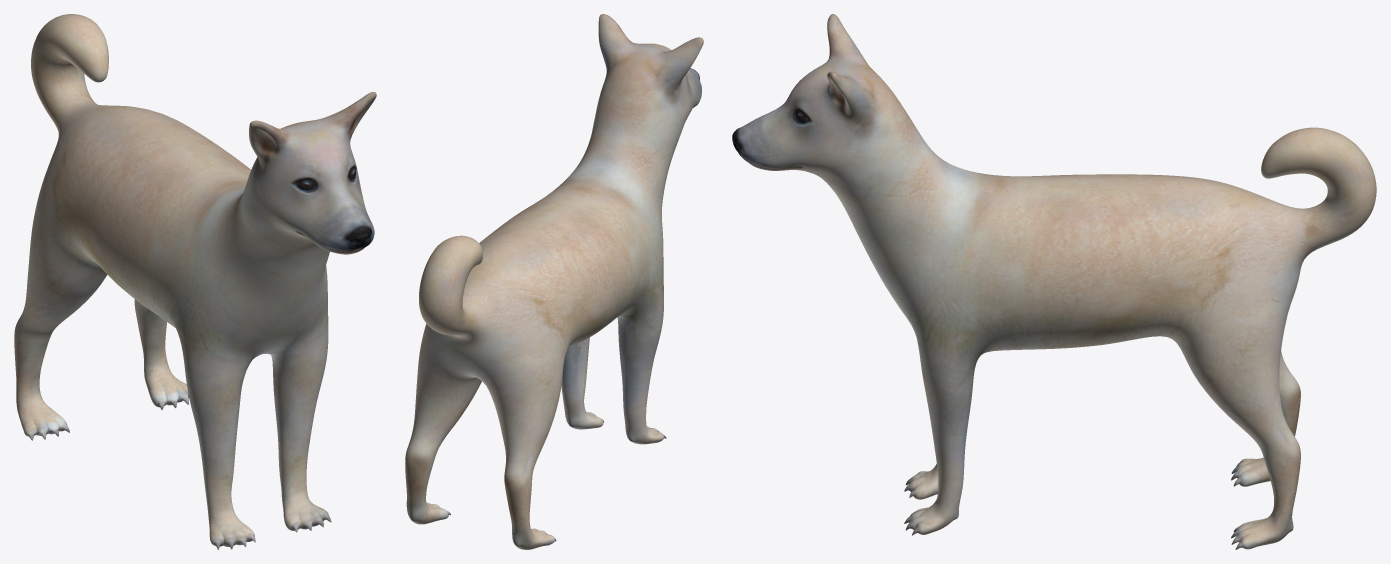
File: dog.gltf
3 renders of one model, left to right at view 1: azimuth 30°, elevation 25°; view 2: azimuth 150°, elevation 25°; view 3: azimuth 270°, elevation 25°, orthographic. The views are drawn at different scales.
Parts seen in each view (by area): view 1: 13466_Canaan_Dog_v1_L3; view 2: 13466_Canaan_Dog_v1_L3; view 3: 13466_Canaan_Dog_v1_L3.
Part boxes in pixels (x1,y1,x2,y2): 13466_Canaan_Dog_v1_L3: [14, 14, 376, 549]; 13466_Canaan_Dog_v1_L3: [405, 14, 703, 549]; 13466_Canaan_Dog_v1_L3: [732, 14, 1376, 549].
Size of the model in its own units: 6.51 by 16.8 by 21.03.
1 material, 1 textured.
